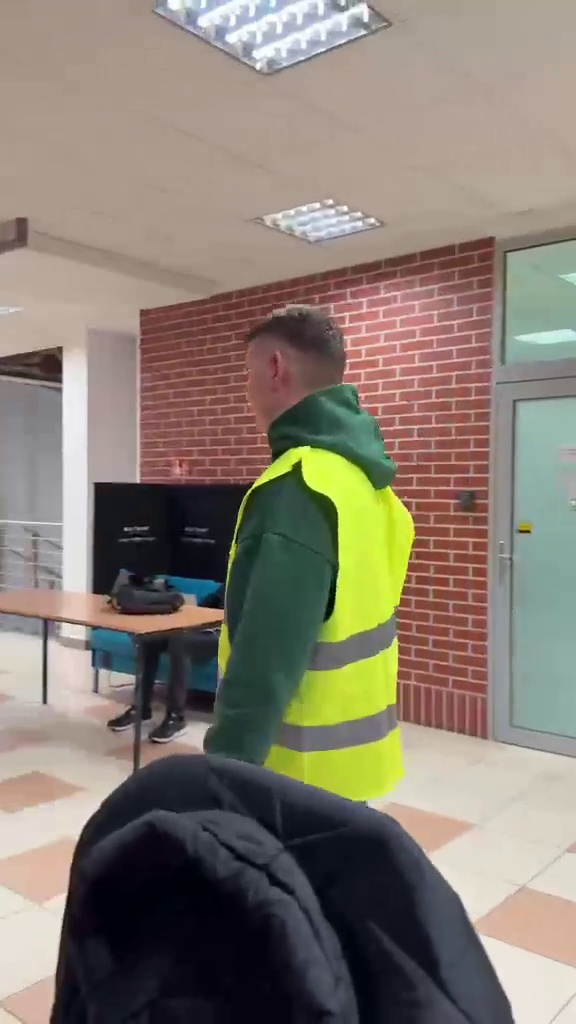vest: (227, 295, 416, 813)
